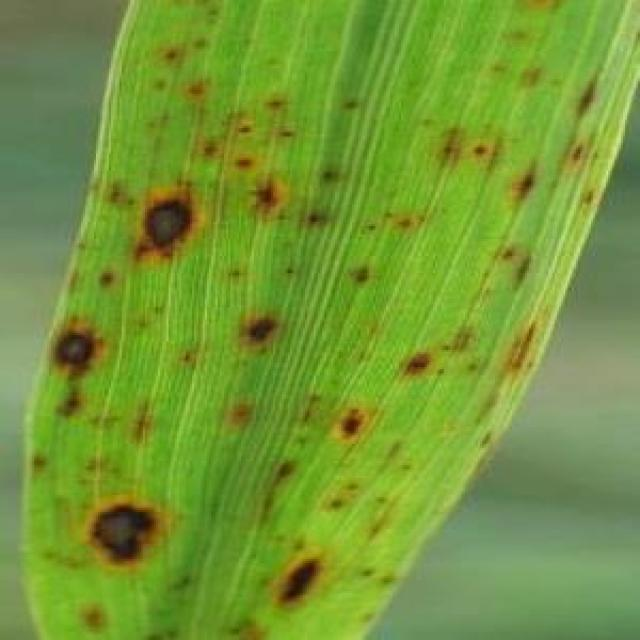Brown_Spot: (72, 479, 170, 574), (472, 0, 551, 106), (123, 178, 207, 266), (315, 464, 409, 536), (490, 293, 554, 387), (46, 308, 110, 386), (435, 312, 494, 382), (286, 374, 334, 453), (268, 548, 328, 610), (370, 196, 430, 252), (137, 591, 206, 637), (560, 71, 609, 131), (350, 554, 395, 619), (327, 394, 373, 456), (392, 343, 447, 386), (466, 400, 502, 464), (430, 123, 473, 175), (246, 173, 293, 220), (76, 596, 122, 640), (339, 315, 371, 371), (503, 159, 539, 208), (499, 244, 536, 291), (98, 168, 133, 216), (125, 298, 164, 340), (269, 448, 308, 489), (243, 312, 285, 348), (347, 260, 390, 295), (170, 340, 208, 378), (460, 135, 494, 174), (136, 395, 166, 439), (230, 612, 274, 640), (248, 496, 278, 534), (338, 95, 370, 127), (260, 91, 294, 121), (298, 207, 332, 237), (60, 388, 84, 427), (94, 259, 122, 292), (562, 142, 596, 168), (27, 448, 56, 478), (147, 68, 178, 96), (232, 148, 259, 177), (198, 0, 222, 31), (192, 143, 227, 164), (232, 119, 261, 143), (268, 120, 298, 143), (276, 259, 300, 283), (231, 396, 253, 421), (187, 31, 209, 56), (223, 263, 252, 281), (312, 166, 340, 184), (184, 75, 198, 96), (160, 46, 179, 61)
